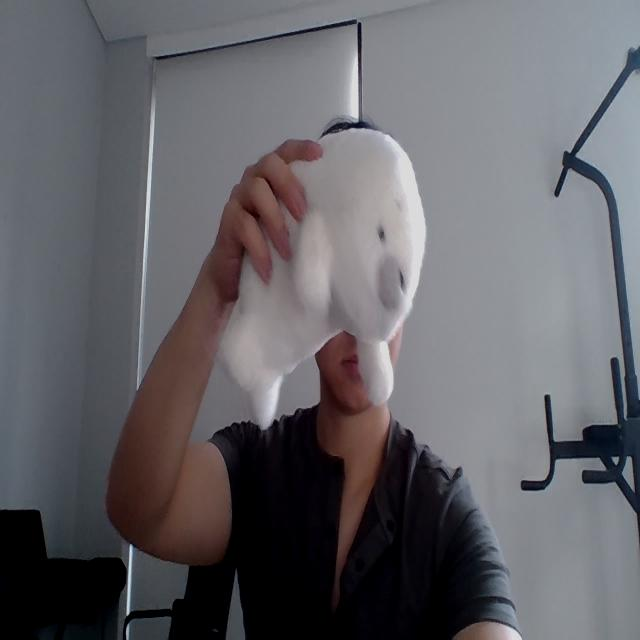seal_bb: (220, 128, 428, 432)
